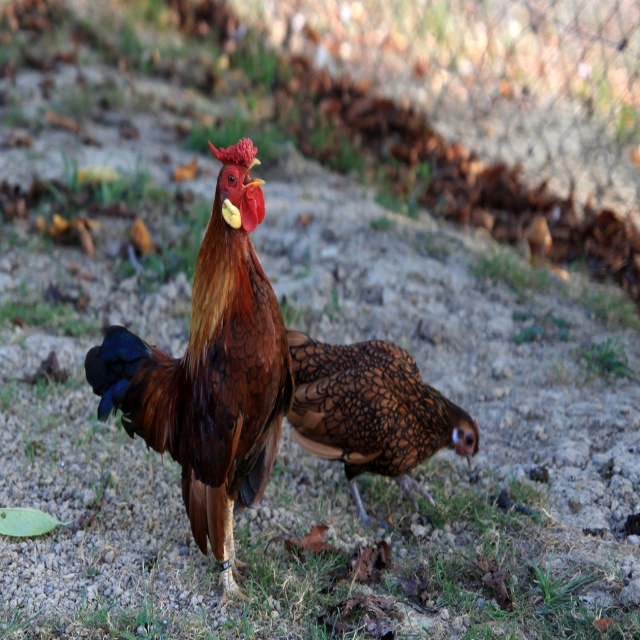Chicken: (84, 136, 295, 620), (285, 330, 480, 525)
